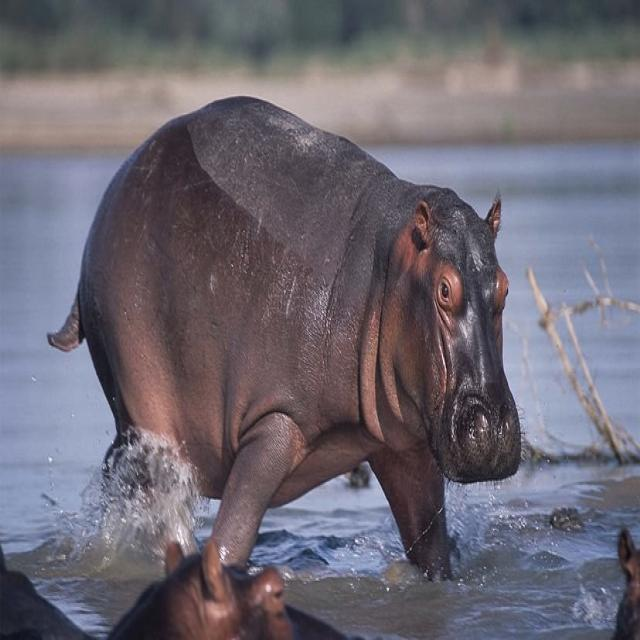hippopotamus: (48, 98, 519, 577)
